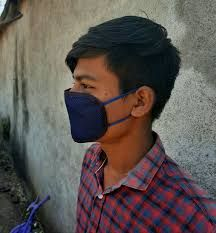with-mask: (62, 35, 158, 155)
